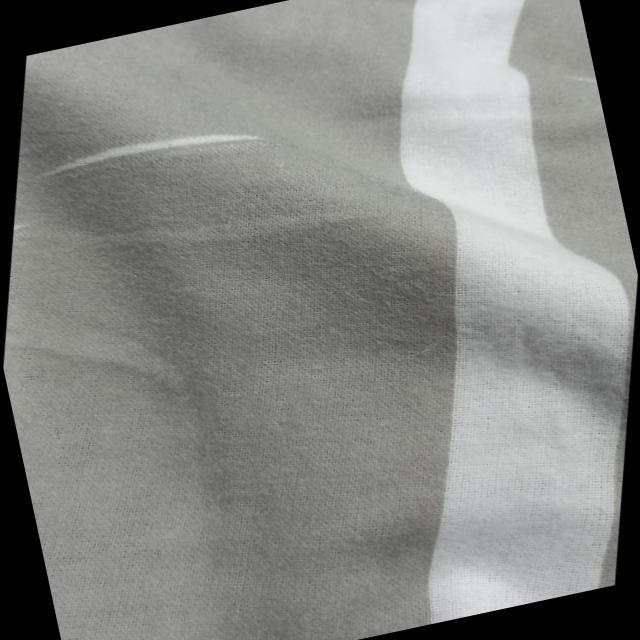selvet: (12, 90, 278, 216)
